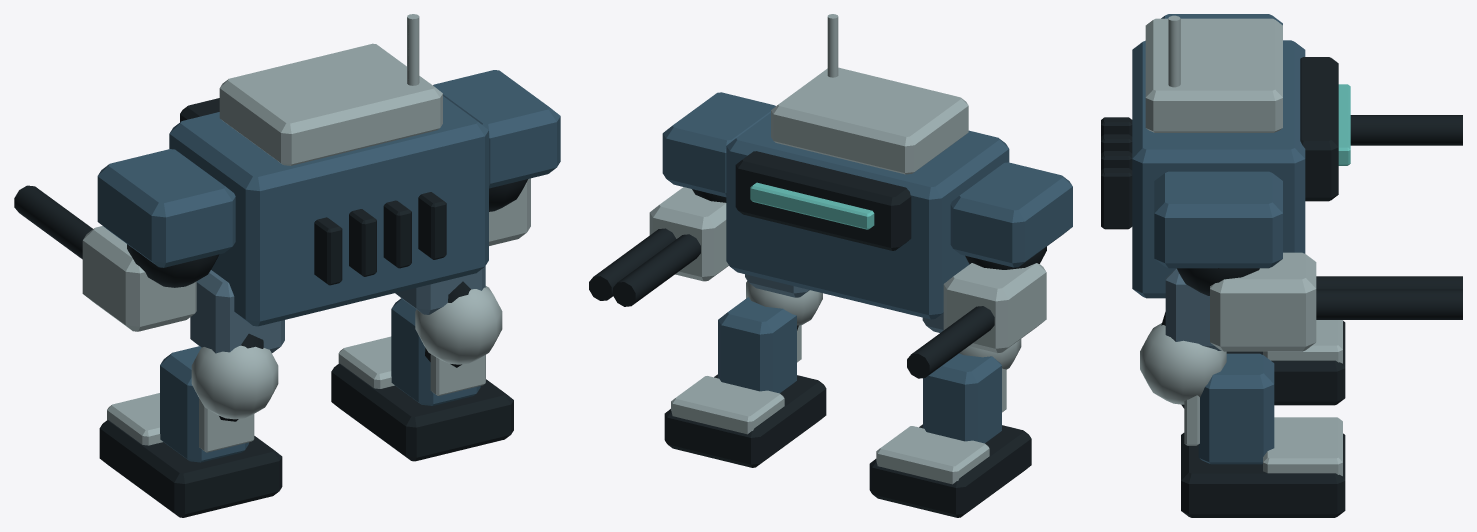
Rendered from legion_walker_0110.glb.
3 views of the same model, side by side, from view 1: azimuth 30°, elevation 25°; view 2: azimuth 150°, elevation 25°; view 3: azimuth 270°, elevation 25° (orthographic). The views are drawn at different scales.
Visible parts, largest first — view 1: _MeshInstance3D_83, _MeshInstance3D_81, _MeshInstance3D_80, _MeshInstance3D_82; view 2: _MeshInstance3D_83, _MeshInstance3D_81, _MeshInstance3D_80, _MeshInstance3D_84, _MeshInstance3D_82; view 3: _MeshInstance3D_81, _MeshInstance3D_83, _MeshInstance3D_80, _MeshInstance3D_82, _MeshInstance3D_84.
Part boxes in pixels (left/top/right/bottom): _MeshInstance3D_83: left=97, top=70, right=560, bottom=462; _MeshInstance3D_81: left=82, top=14, right=530, bottom=452; _MeshInstance3D_80: left=14, top=98, right=527, bottom=517; _MeshInstance3D_82: left=190, top=266, right=485, bottom=353; _MeshInstance3D_83: left=662, top=92, right=1072, bottom=443; _MeshInstance3D_81: left=649, top=14, right=1046, bottom=484; _MeshInstance3D_80: left=589, top=151, right=1046, bottom=517; _MeshInstance3D_84: left=750, top=182, right=874, bottom=229; _MeshInstance3D_82: left=745, top=274, right=943, bottom=332; _MeshInstance3D_81: left=1140, top=15, right=1342, bottom=476; _MeshInstance3D_83: left=1132, top=14, right=1305, bottom=464; _MeshInstance3D_80: left=1101, top=57, right=1462, bottom=517; _MeshInstance3D_82: left=1165, top=268, right=1221, bottom=350; _MeshInstance3D_84: left=1338, top=84, right=1350, bottom=165.
Size of the model in its own units: 4.03 by 4.26 by 3.1.
